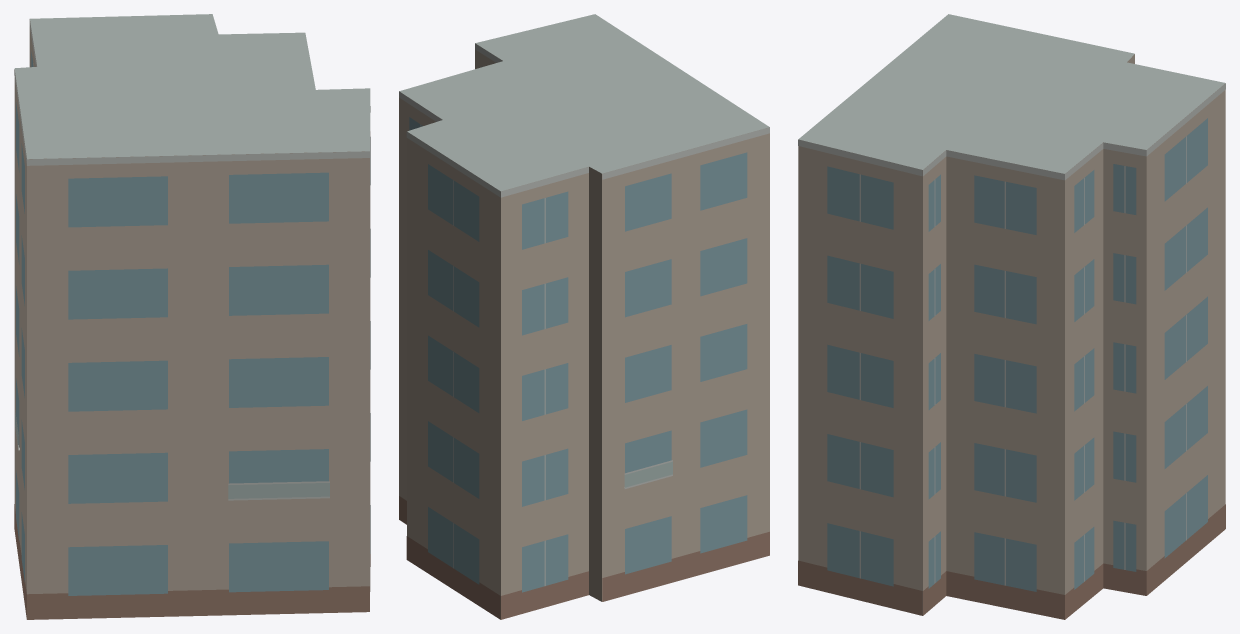
Rendered from survey-upis-32886837.glb.
The picture shows the model from 3 angles, left to right: view 1: azimuth 30°, elevation 25°; view 2: azimuth 150°, elevation 25°; view 3: azimuth 270°, elevation 25°; orthographic projection. The views are drawn at different scales.
Parts seen in each view (by area): view 1: survey-upis-32886837.tmp; view 2: survey-upis-32886837.tmp; view 3: survey-upis-32886837.tmp.
Boxes of the visible parts, x1,y1,x2,y2 form: survey-upis-32886837.tmp: (14, 14, 370, 619); survey-upis-32886837.tmp: (399, 14, 769, 619); survey-upis-32886837.tmp: (798, 14, 1225, 619).
Size of the model in its own units: 12.89 by 16.75 by 14.57.
